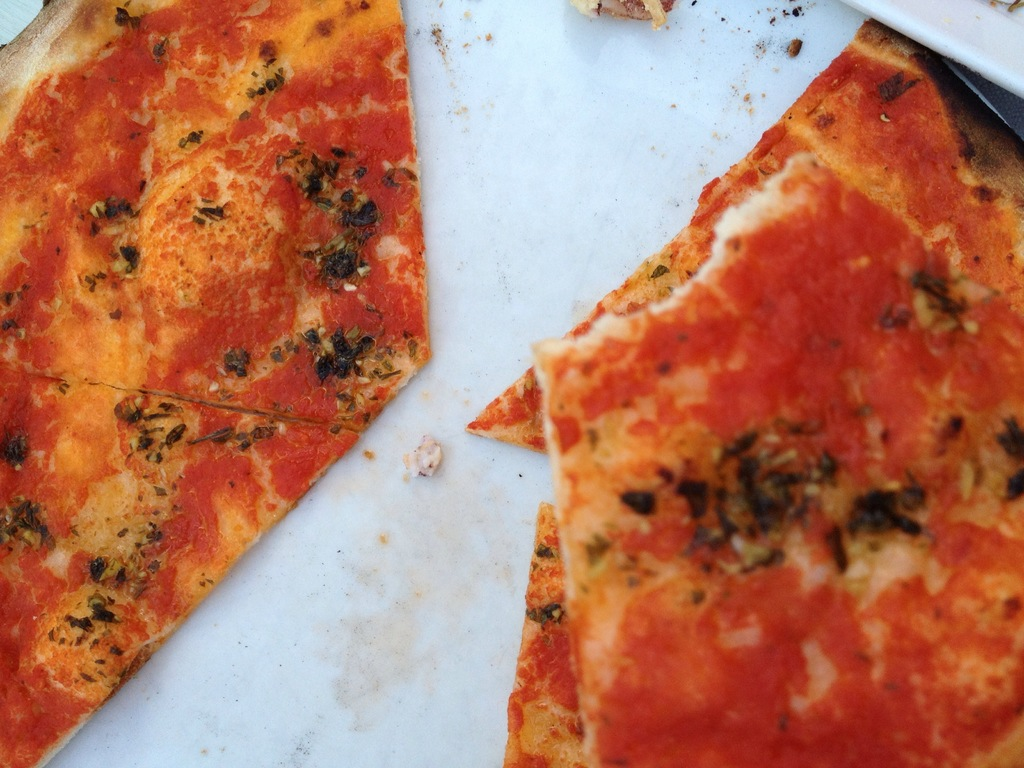Pizza: (466, 20, 1023, 767), (0, 0, 419, 432), (0, 359, 355, 767)
